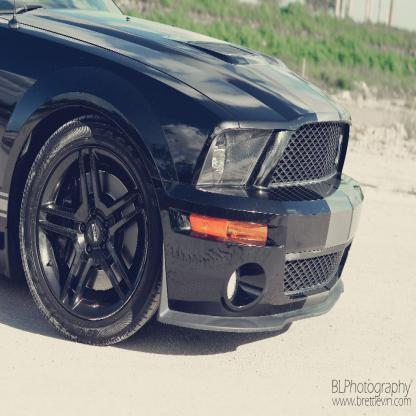car: (0, 0, 366, 348)
